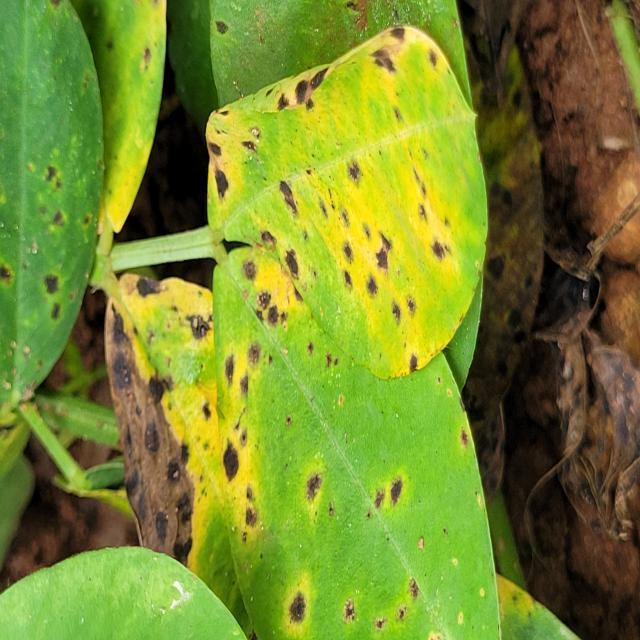Ground nut_tikka leaf spot: (212, 241, 502, 640), (202, 22, 490, 379)
